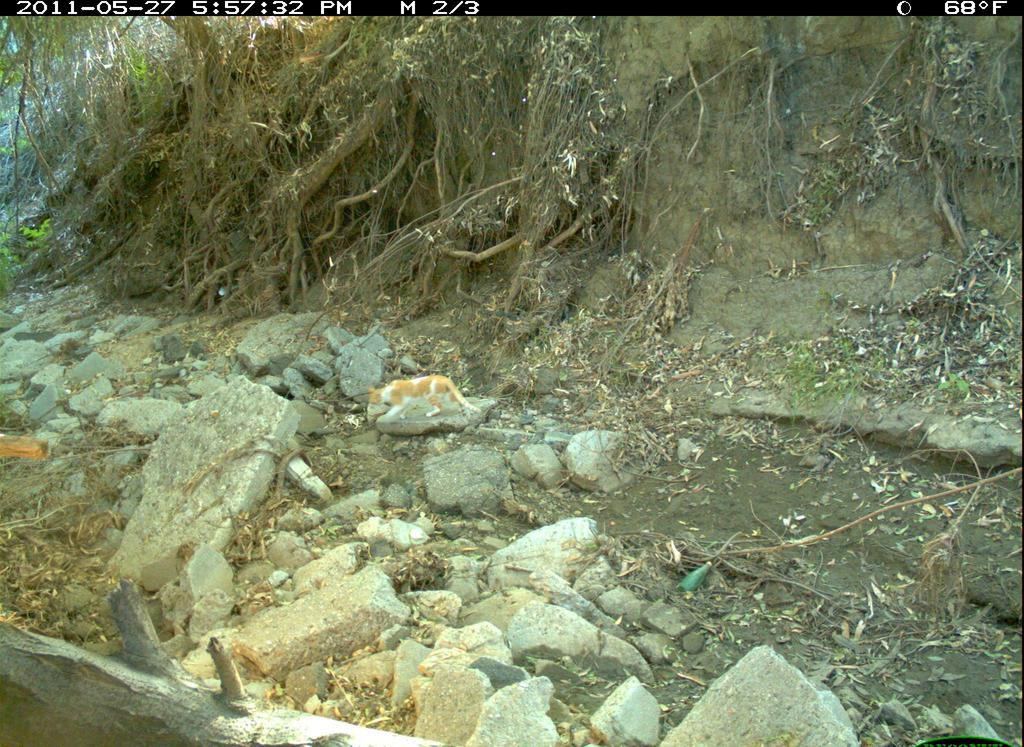cat: (364, 373, 483, 428)
